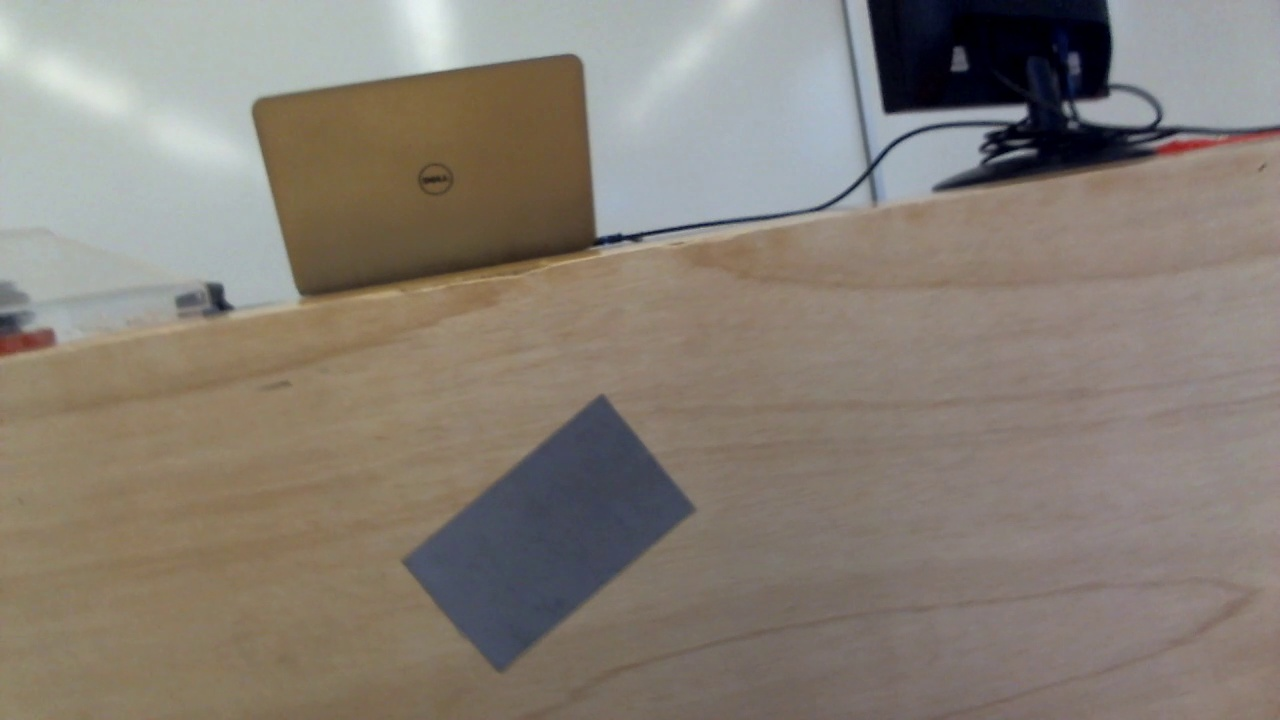Tape: (401, 395, 698, 672)
